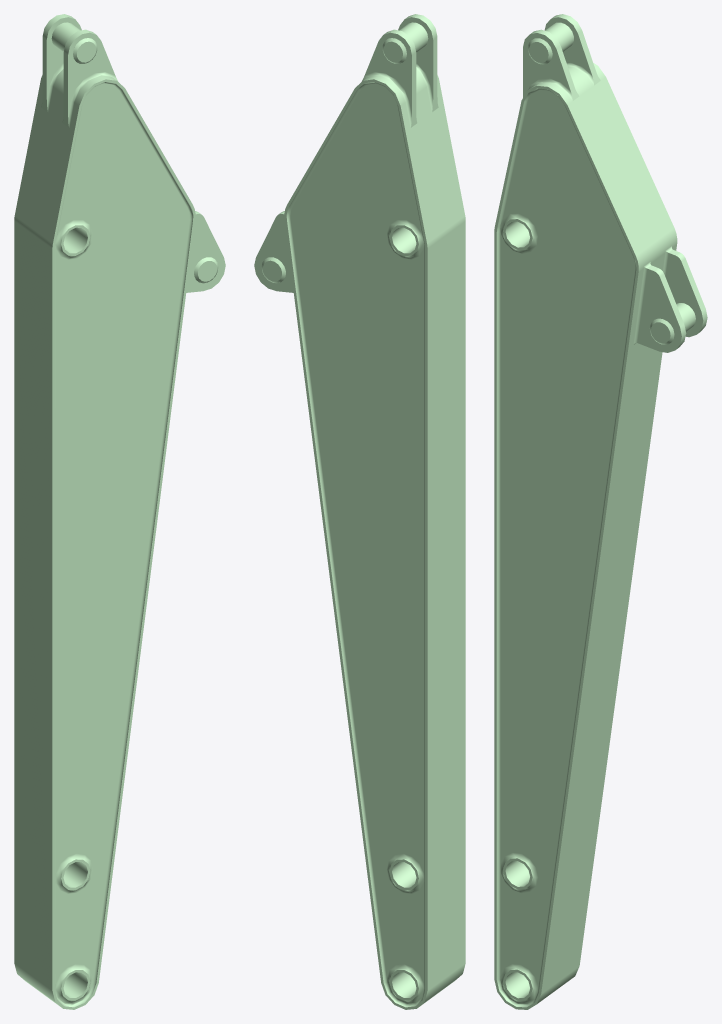
Rendered from arm.glb.
The picture shows the model from 3 angles, left to right: view 1: azimuth 30°, elevation 25°; view 2: azimuth 150°, elevation 25°; view 3: azimuth 330°, elevation 25°; orthographic projection.
Visible parts, largest first — view 1: Solid 2, ArmPistonRodPin, BucketCylinderTubePin; view 2: Solid 2, ArmPistonRodPin, BucketCylinderTubePin; view 3: Solid 2, ArmPistonRodPin, BucketCylinderTubePin.
Boxes of the visible parts, left/top/right/bottom form: Solid 2: left=14, top=14, right=225, bottom=1009; ArmPistonRodPin: left=51, top=22, right=97, bottom=63; BucketCylinderTubePin: left=194, top=257, right=218, bottom=283; Solid 2: left=254, top=14, right=465, bottom=1009; ArmPistonRodPin: left=382, top=22, right=428, bottom=63; BucketCylinderTubePin: left=261, top=257, right=285, bottom=283; Solid 2: left=494, top=14, right=707, bottom=1009; ArmPistonRodPin: left=528, top=22, right=573, bottom=64; BucketCylinderTubePin: left=650, top=303, right=695, bottom=344.
Bounding box in the file's own units: 0.7325 × 3.77 × 0.27.
